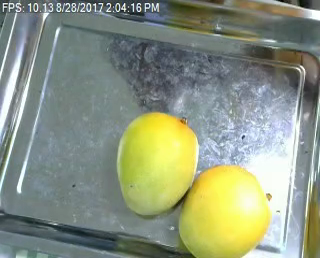Mango: (118, 109, 202, 218), (179, 162, 271, 257)
